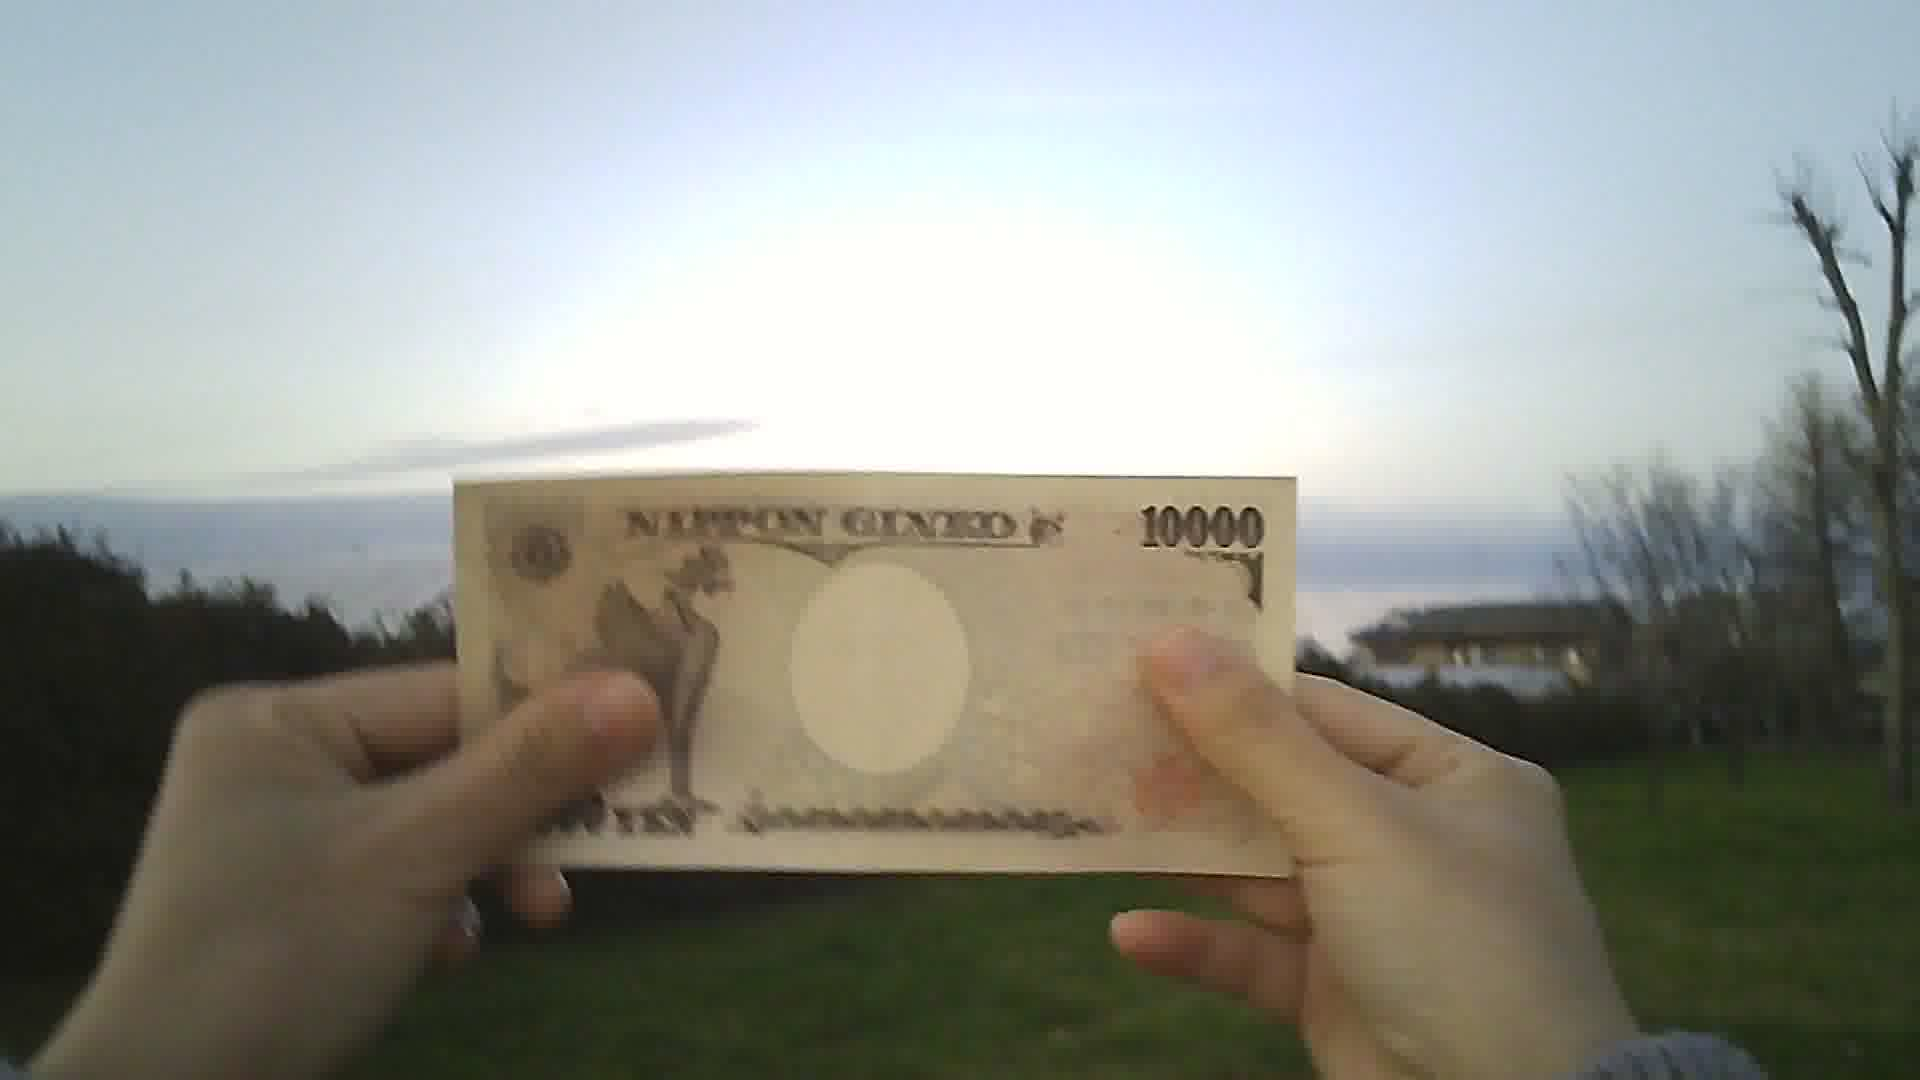10,000 Yen: (433, 442, 1323, 919)
